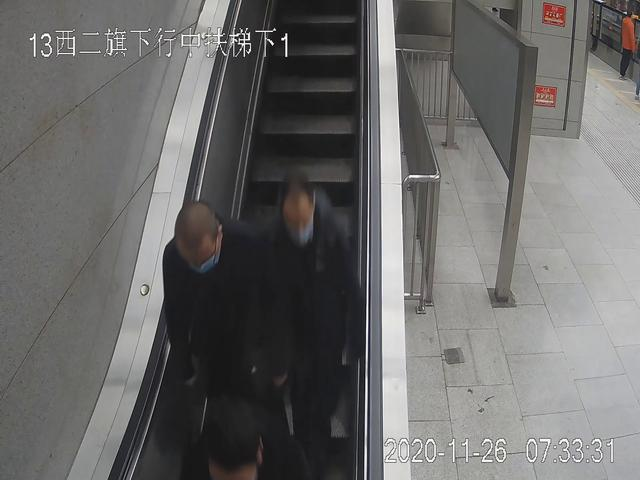person: (162, 203, 285, 480), (265, 178, 359, 480), (618, 10, 637, 79)
